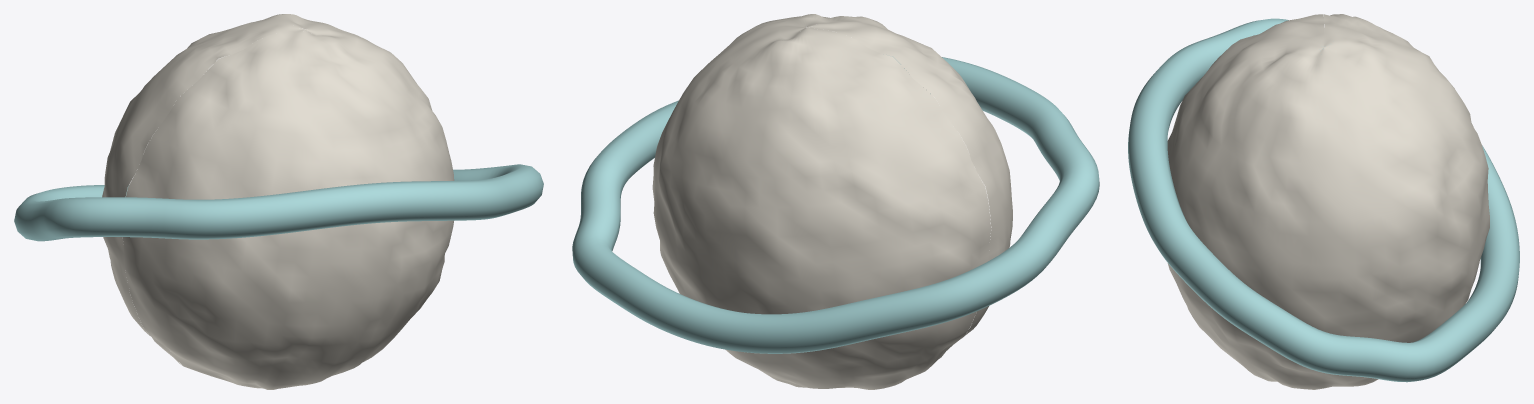
File: planet.glb
3 renders of one model, left to right at view 1: azimuth 30°, elevation 25°; view 2: azimuth 150°, elevation 25°; view 3: azimuth 270°, elevation 25°, orthographic.
Visible parts, largest first — view 1: planet-body, planet-ring; view 2: planet-body, planet-ring; view 3: planet-body, planet-ring.
Boxes of the visible parts, x1,y1,x2,y2 form: planet-body: [102, 14, 454, 389]; planet-ring: [14, 164, 543, 241]; planet-body: [652, 14, 1012, 389]; planet-ring: [572, 56, 1099, 353]; planet-body: [1167, 14, 1489, 389]; planet-ring: [1128, 18, 1519, 382].
Bounding box in the file's own units: 2.4 × 1.62 × 1.67.
